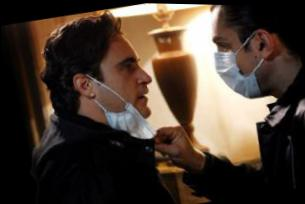OK: (205, 19, 268, 105)
WRONG: (96, 44, 156, 127)
